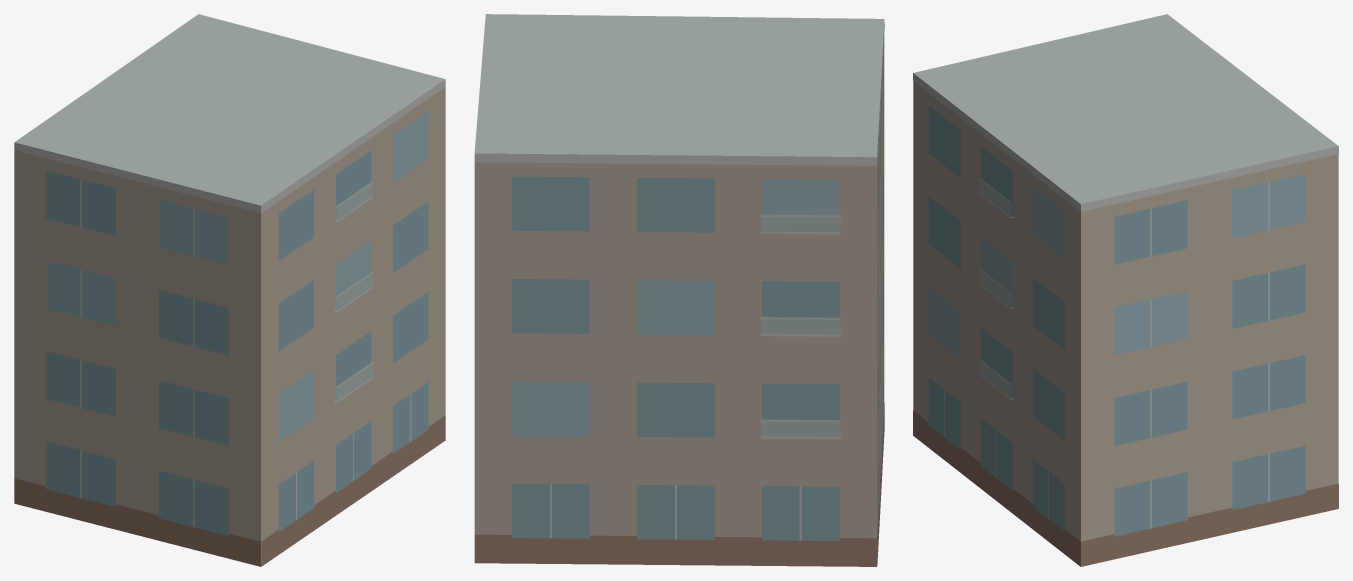
File: survey-upis-32705635.glb
3 renders of one model, left to right at view 1: azimuth 30°, elevation 25°; view 2: azimuth 150°, elevation 25°; view 3: azimuth 270°, elevation 25°, orthographic. The views are drawn at different scales.
Visible parts, largest first — view 1: survey-upis-32705635.tmp; view 2: survey-upis-32705635.tmp; view 3: survey-upis-32705635.tmp.
Boxes of the visible parts, x1,y1,x2,y2 form: survey-upis-32705635.tmp: (14,14,445,566); survey-upis-32705635.tmp: (474,14,884,566); survey-upis-32705635.tmp: (913,14,1338,566).
Bounding box in the file's own units: 12.83 × 11.4 × 12.14.
